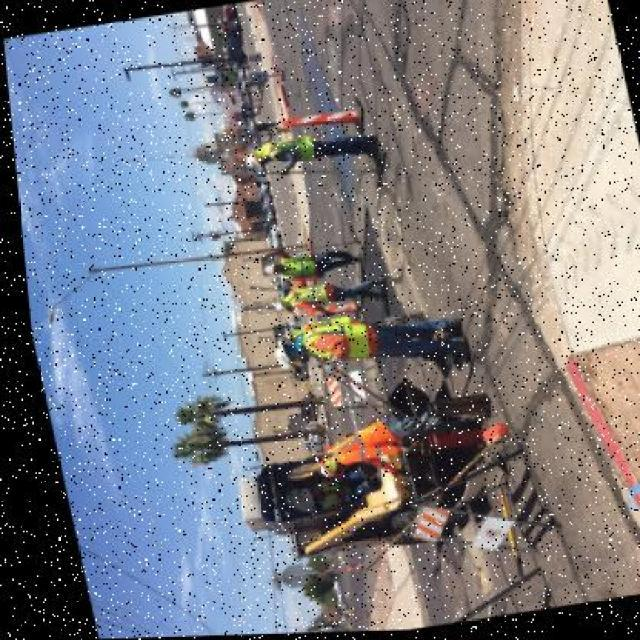vest: (317, 414, 403, 484), (286, 309, 381, 368), (257, 131, 325, 171), (275, 277, 339, 315), (269, 248, 327, 280)
